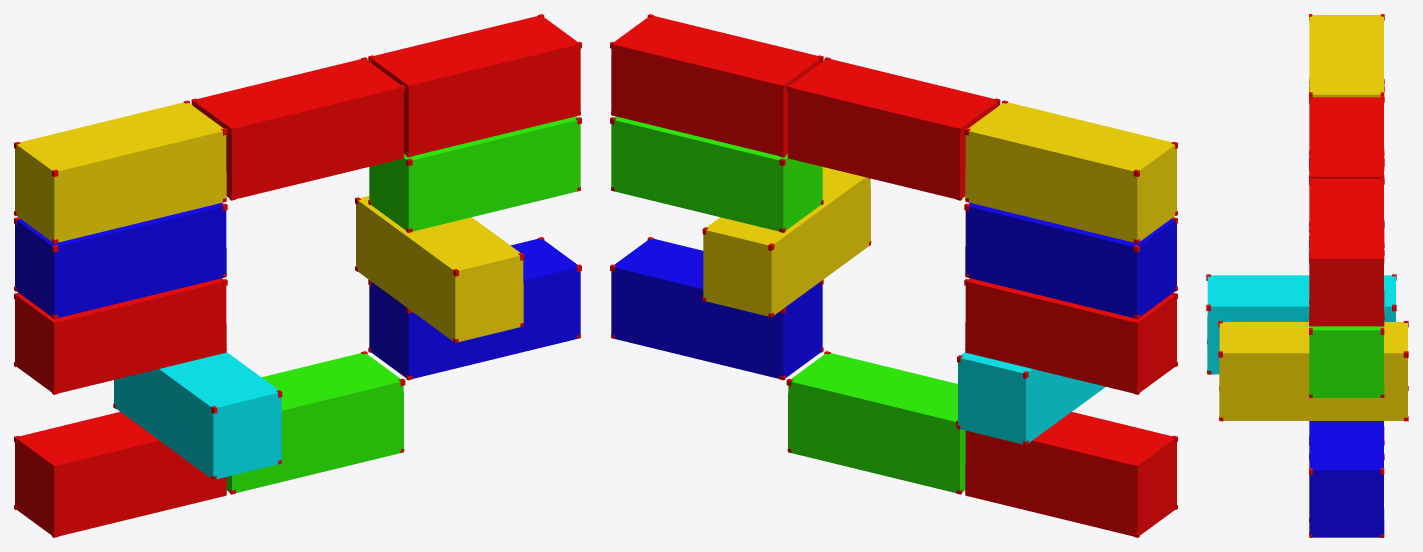
The model's file is ParentPart25FBX.FBX.
3 renders of one model, left to right at view 1: azimuth 30°, elevation 25°; view 2: azimuth 150°, elevation 25°; view 3: azimuth 270°, elevation 25°, orthographic. The views are drawn at different scales.
Parts seen in each view (by area): view 1: ParentPart25; view 2: ParentPart25; view 3: ParentPart25.
Boxes of the visible parts, box(x1,y1,x2,y2) form: ParentPart25: box(14, 14, 581, 537); ParentPart25: box(610, 14, 1177, 537); ParentPart25: box(1206, 14, 1408, 537).
Size of the model in its own units: 6.3 by 2.21 by 4.17.
